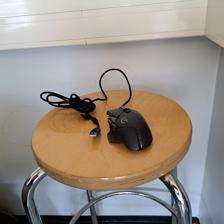mouse: (105, 106, 153, 152)
